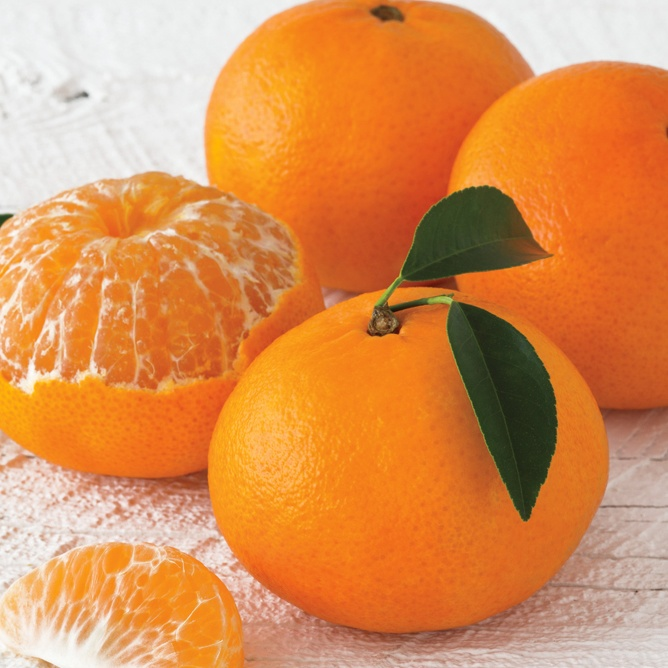mandarin: (211, 286, 615, 635), (204, 1, 539, 294), (1, 174, 314, 479), (451, 59, 668, 412), (1, 542, 242, 668)
